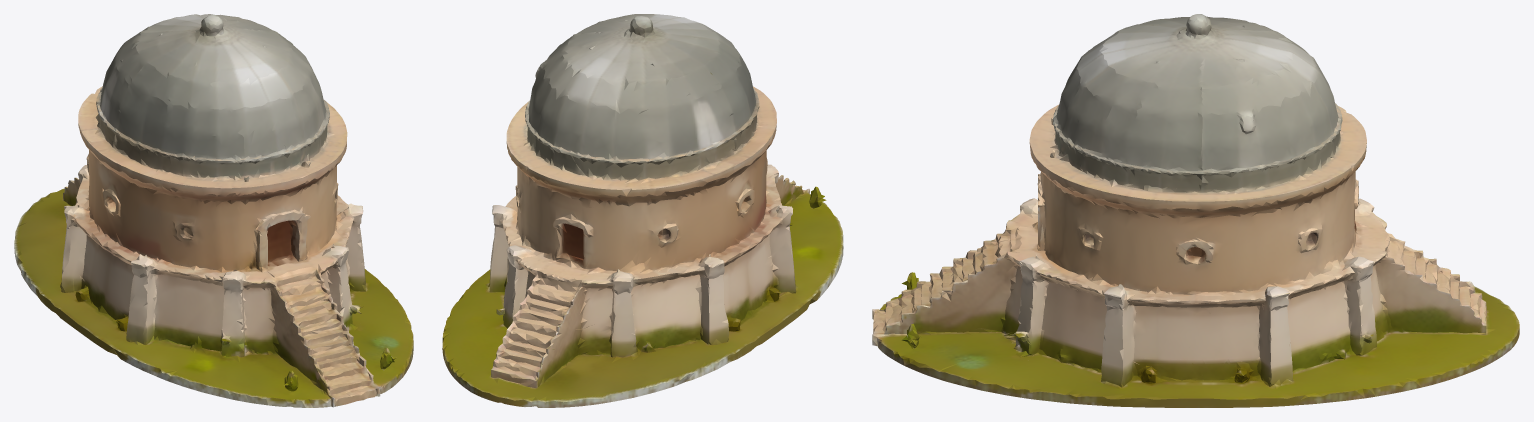
File: observatory.glb
The picture shows the model from 3 angles, left to right: view 1: azimuth 30°, elevation 25°; view 2: azimuth 150°, elevation 25°; view 3: azimuth 270°, elevation 25°; orthographic projection. The views are drawn at different scales.
Parts seen in each view (by area): view 1: Observatory; view 2: Observatory; view 3: Observatory.
Boxes of the visible parts, left/top/right/bottom form: Observatory: left=14, top=14, right=413, bottom=407; Observatory: left=442, top=14, right=843, bottom=407; Observatory: left=872, top=14, right=1519, bottom=407.
Bounding box in the file's own units: 1.04 × 1.02 × 1.89.
1 material, 1 textured.
